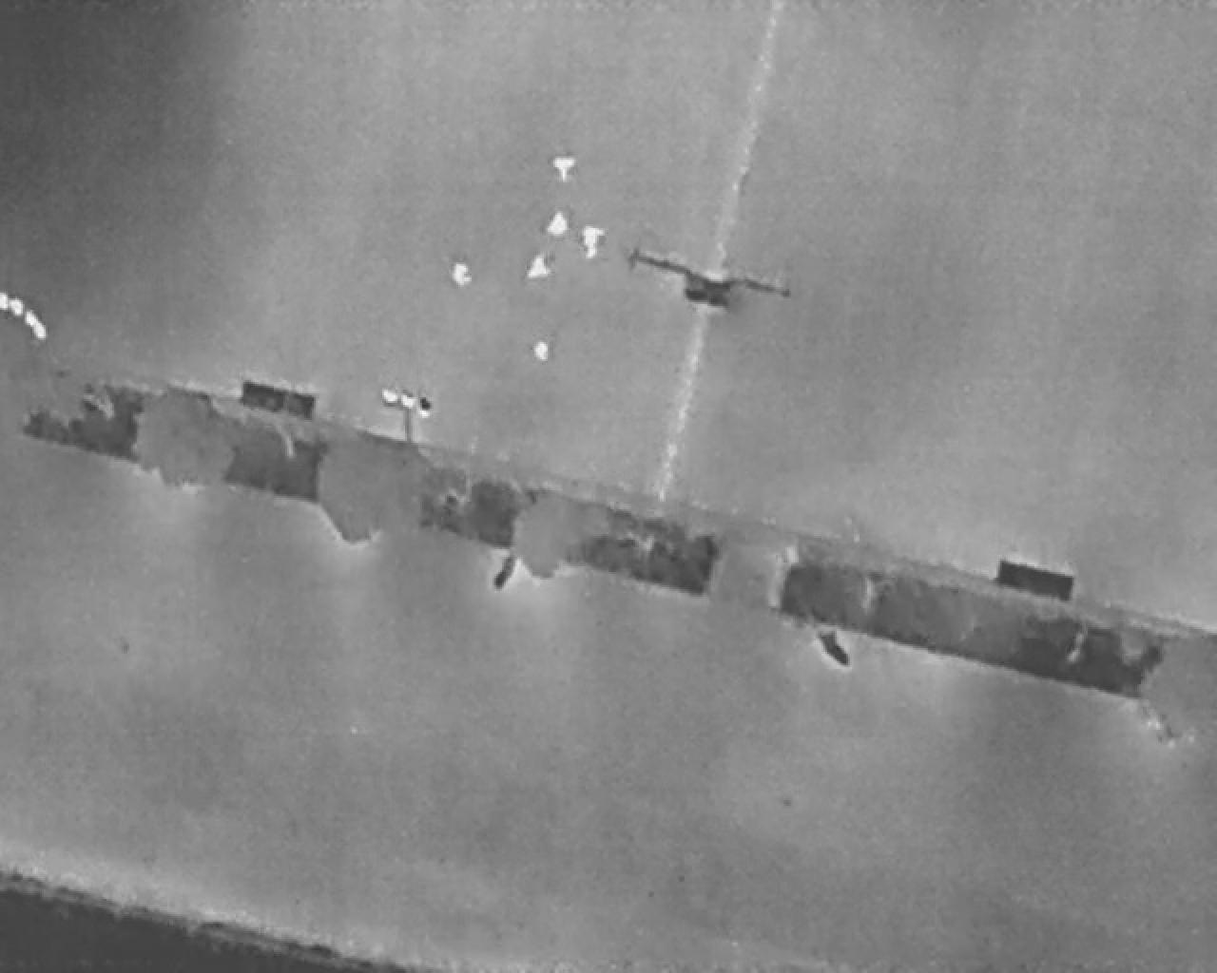person: (583, 227, 608, 259), (552, 155, 577, 183), (528, 254, 552, 280), (549, 210, 570, 238), (454, 263, 473, 286), (535, 341, 551, 362)
